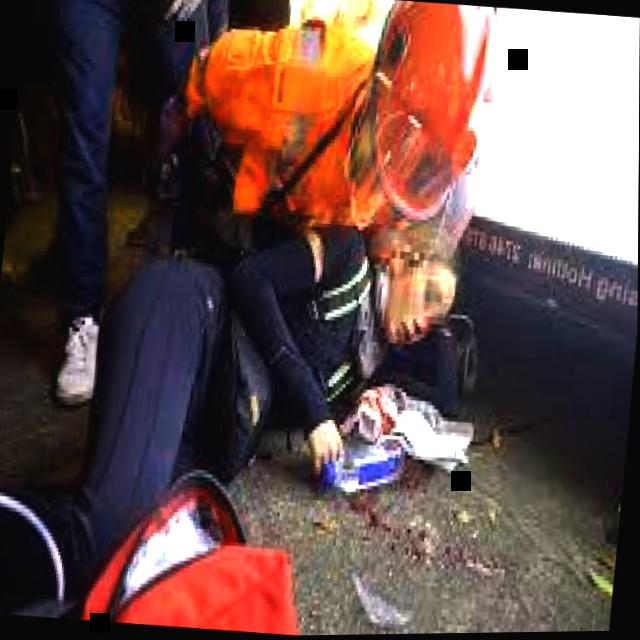Fall-Detected: (0, 159, 491, 640)
